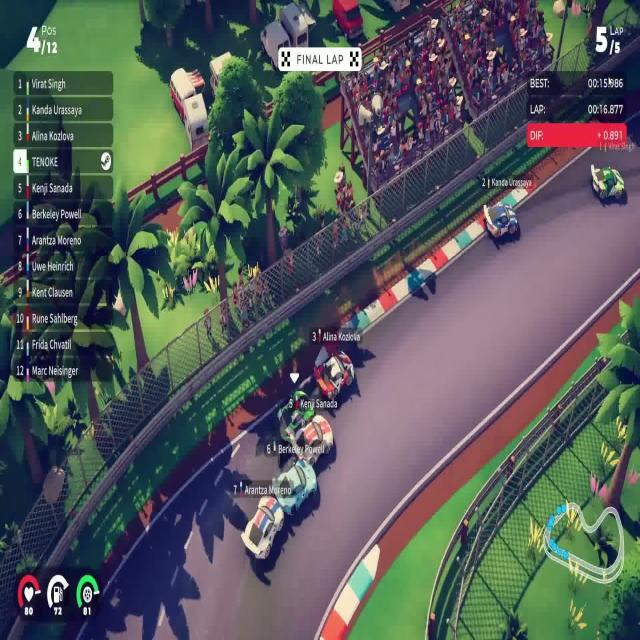car: (240, 494, 284, 560), (271, 457, 317, 516), (312, 345, 354, 402), (290, 414, 334, 466), (276, 389, 314, 440), (482, 200, 520, 242), (589, 162, 625, 202)
